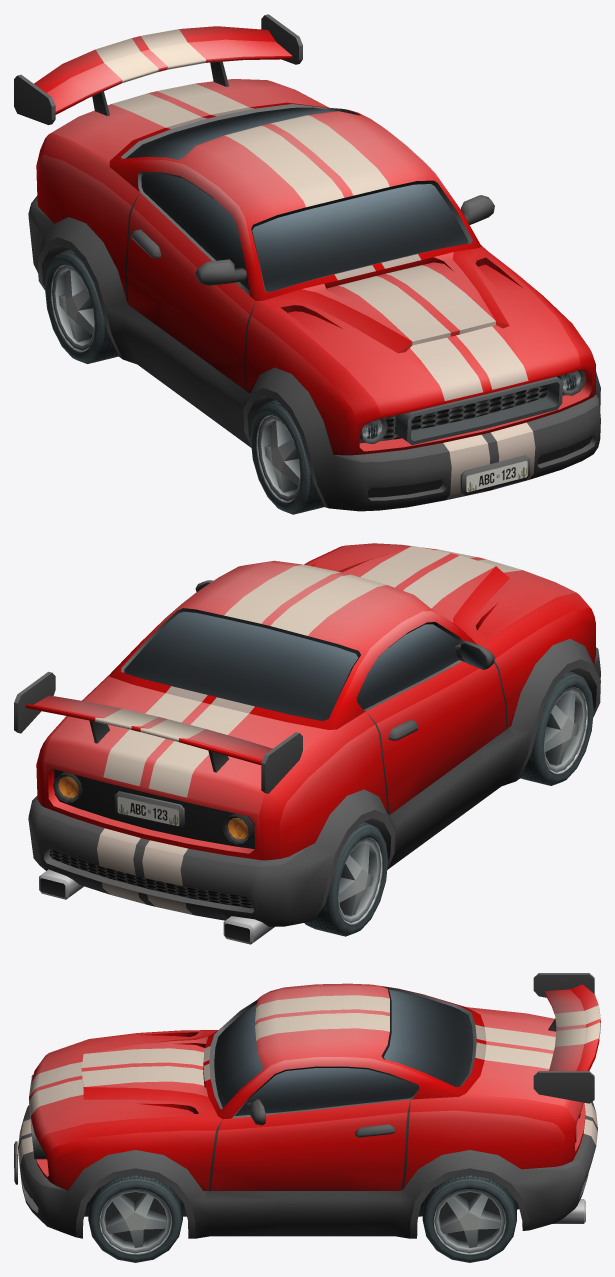
The model's file is VHC0110009.FBX.
3 renders of one model, top to bottom at view 1: azimuth 30°, elevation 25°; view 2: azimuth 150°, elevation 25°; view 3: azimuth 270°, elevation 25°, orthographic. The views are drawn at different scales.
Parts seen in each view (by area): view 1: smVHC0110009; view 2: smVHC0110009; view 3: smVHC0110009.
Boxes of the visible parts, box(x1,y1,x2,y2) form: smVHC0110009: box(14, 14, 600, 514); smVHC0110009: box(14, 543, 600, 944); smVHC0110009: box(14, 973, 600, 1262).
Size of the model in its own units: 1.56 by 1.22 by 3.3.
Materials: 1 (1 with a texture image).
